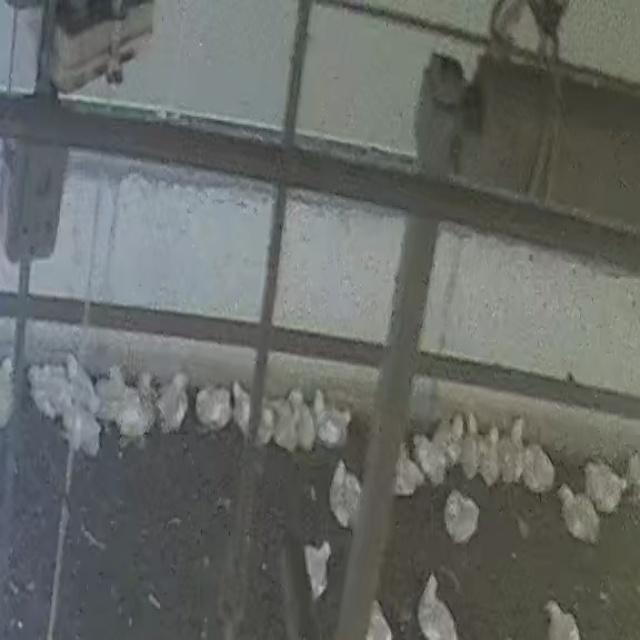chicken: (416, 574, 458, 640), (331, 459, 369, 529), (580, 460, 627, 514), (153, 366, 192, 430), (291, 544, 332, 603), (311, 388, 348, 451), (193, 380, 233, 434), (228, 383, 264, 440), (522, 442, 558, 497), (386, 441, 420, 497), (560, 492, 598, 542), (444, 493, 480, 540), (416, 432, 449, 483), (503, 411, 525, 486), (291, 388, 316, 452), (460, 413, 483, 482), (483, 432, 507, 486), (448, 412, 466, 466)
